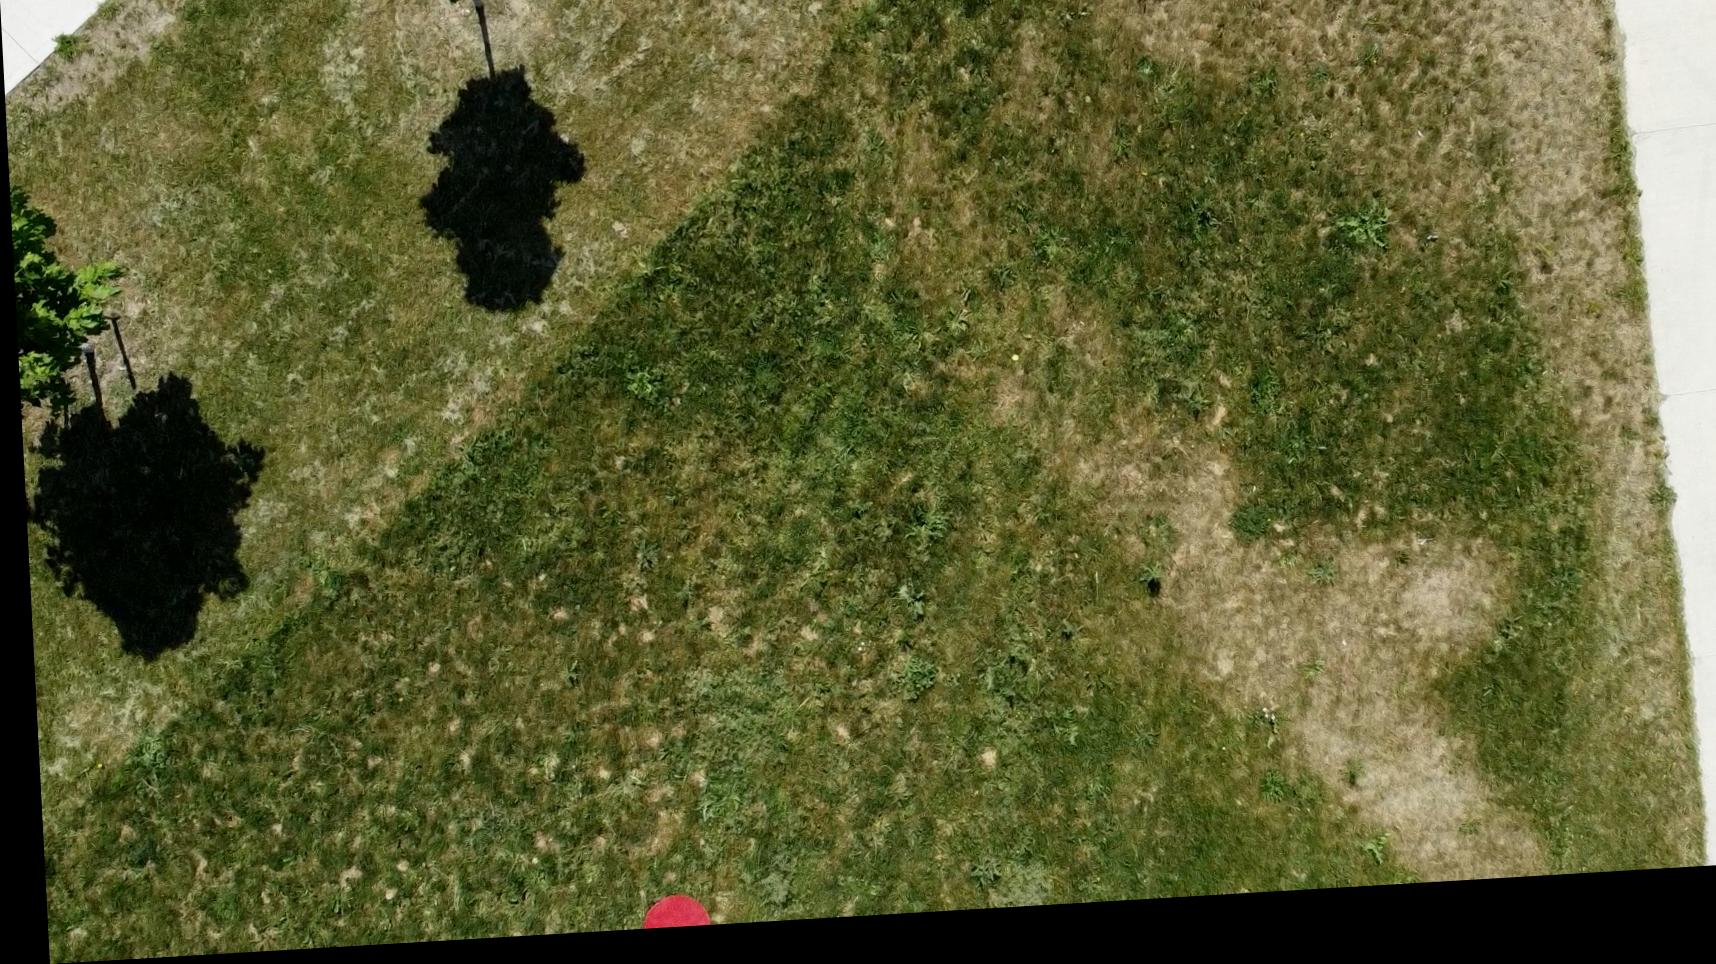Red: (629, 899, 704, 937)
